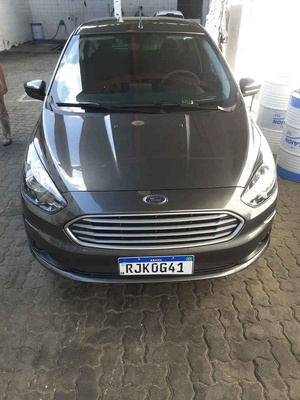Frontal Veiculo: (22, 27, 280, 287)
